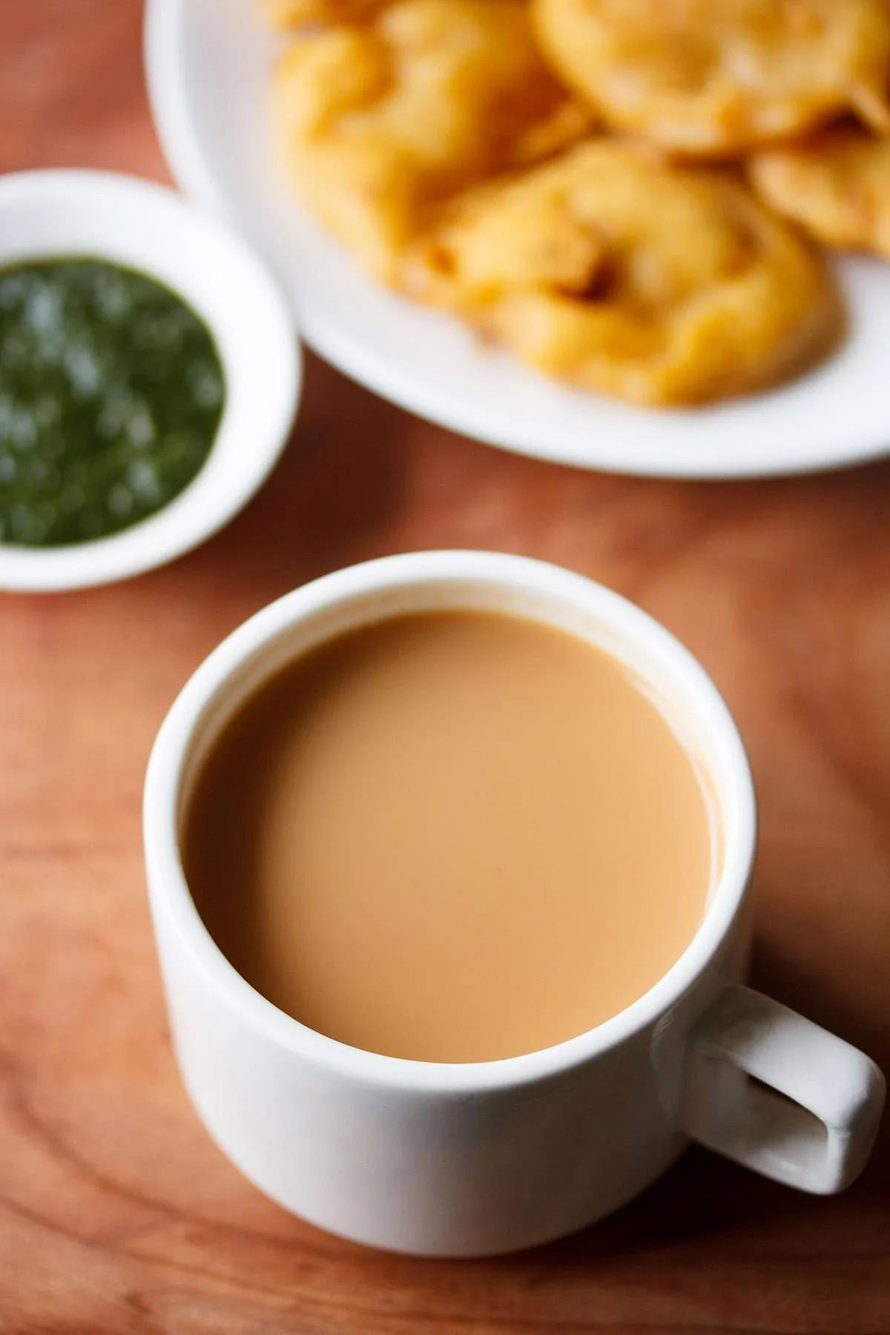Chai: (184, 612, 710, 1065)
